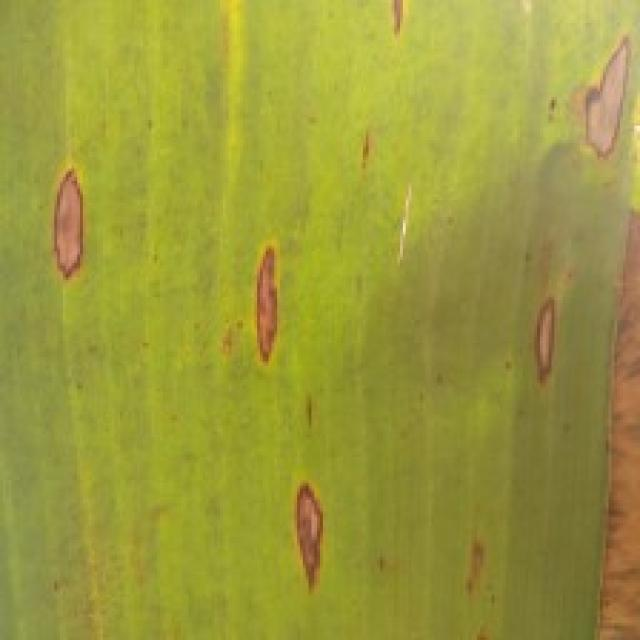Early_leaf_spot: (585, 208, 640, 640), (568, 18, 636, 195), (41, 146, 118, 288), (508, 272, 578, 417), (243, 226, 303, 374), (282, 461, 343, 602), (444, 513, 494, 608), (349, 0, 447, 45), (335, 106, 382, 187), (366, 524, 394, 585)
